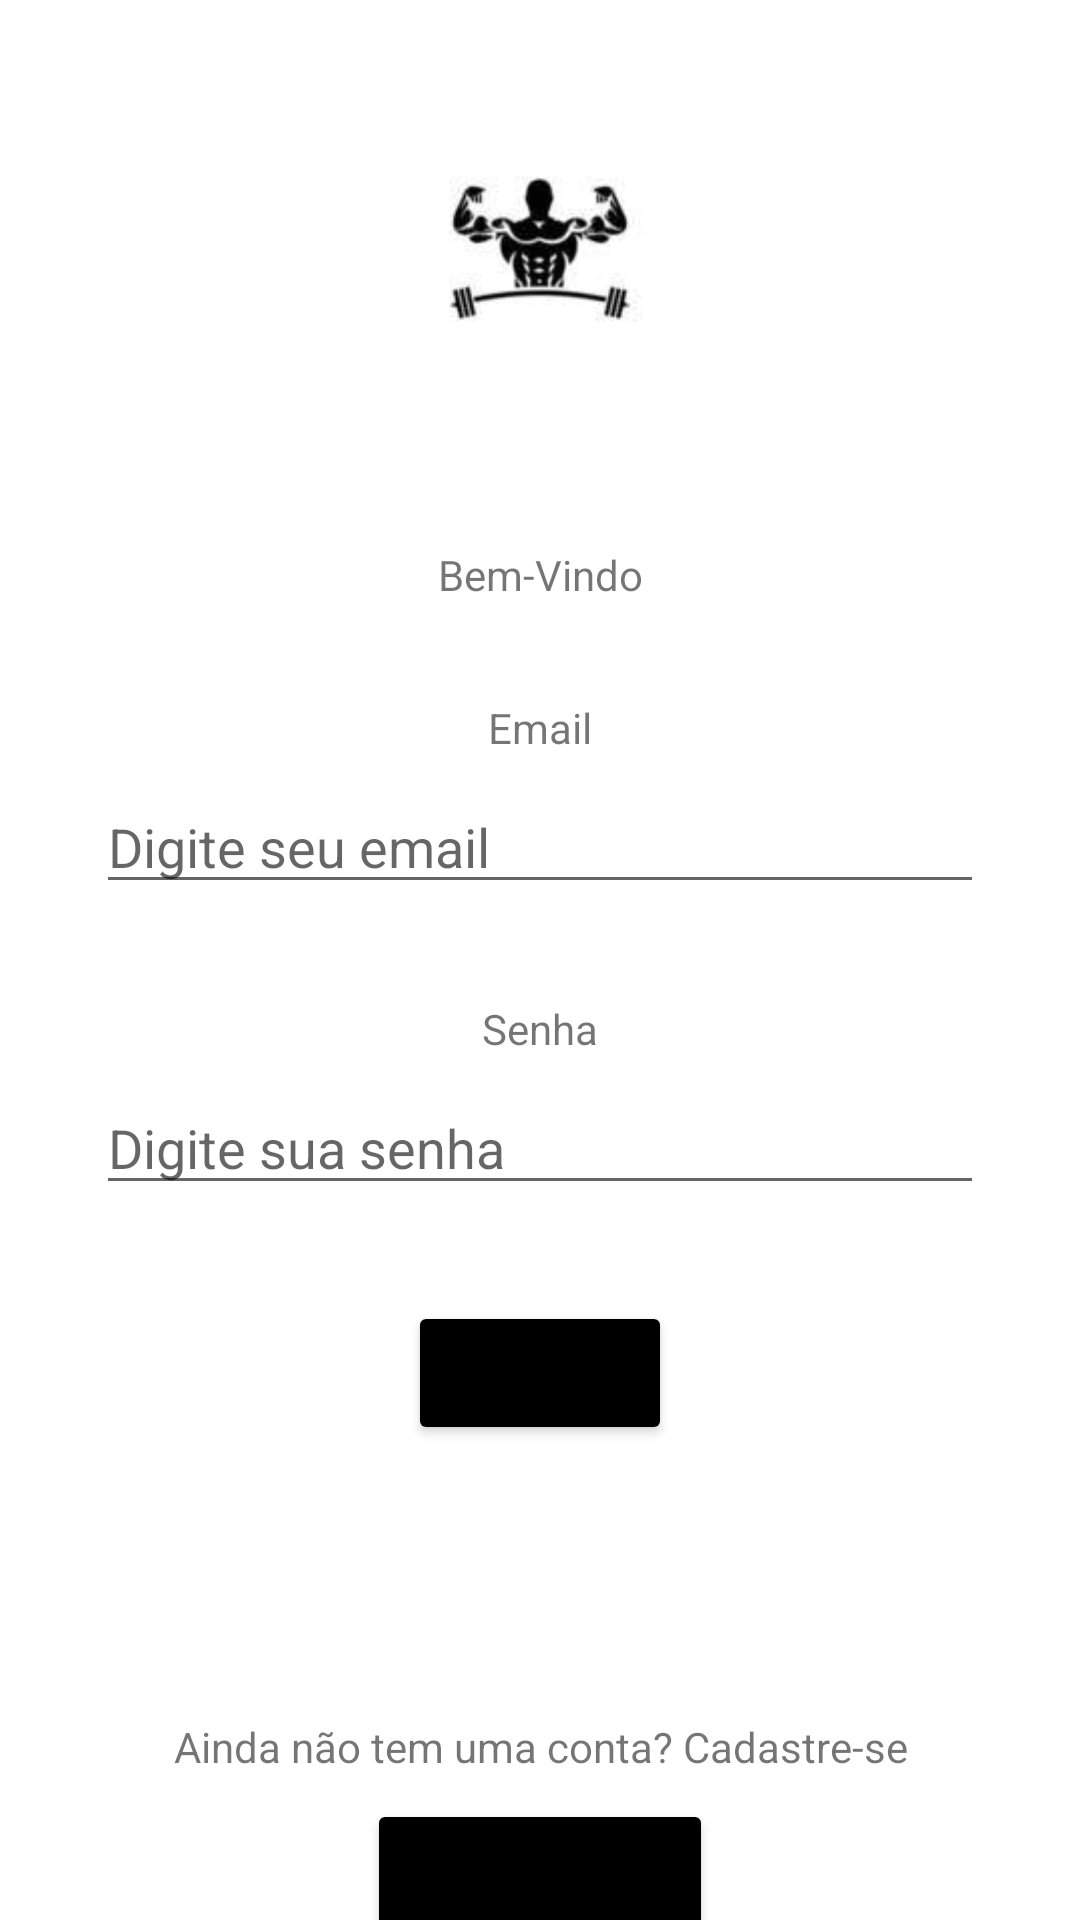

Screen size 1080*1920. Icon name, then its center in pixels as point (x, y):
academy: point (540, 249)
